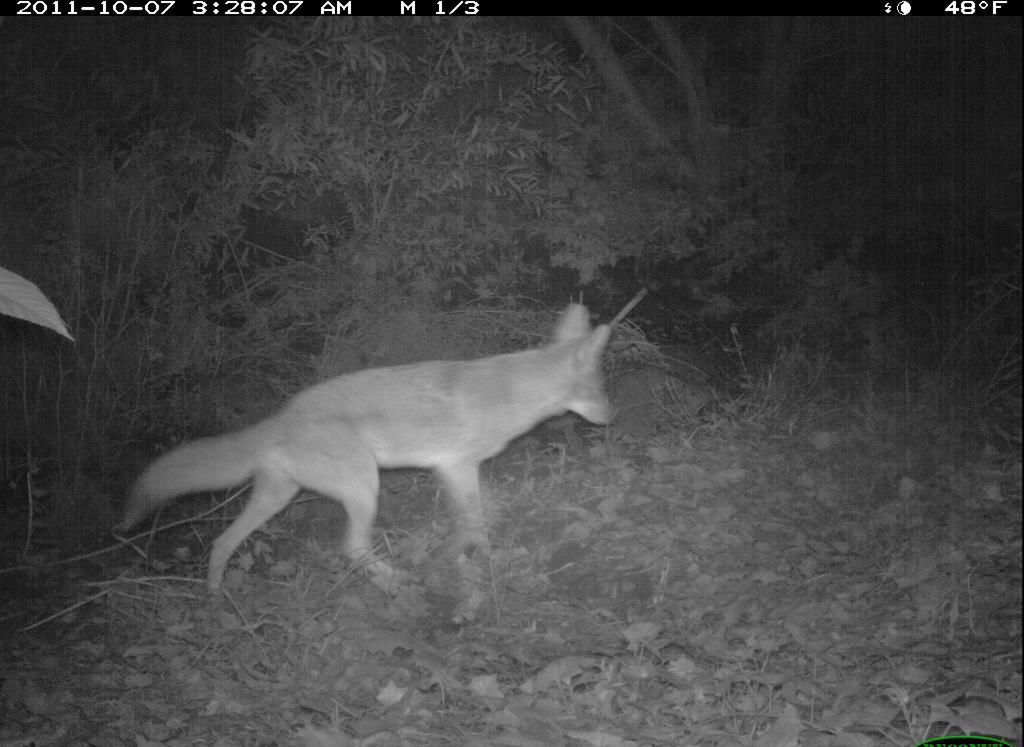coyote: (114, 292, 629, 624)
